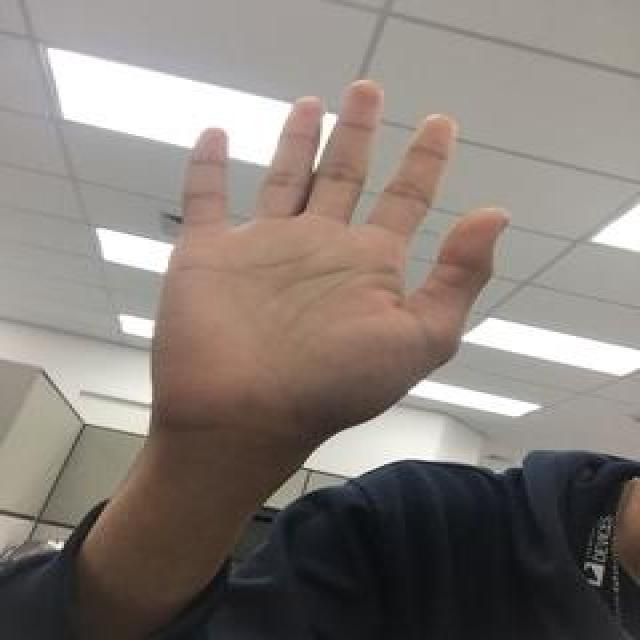hand: (144, 75, 512, 429)
